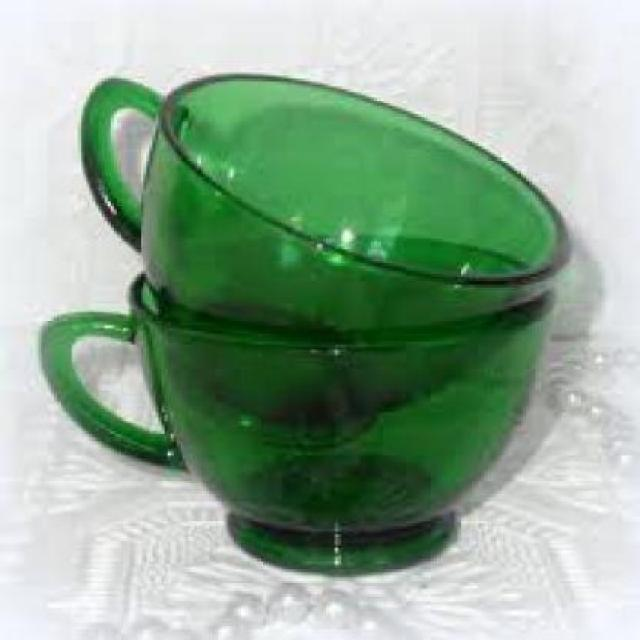kaca: (35, 231, 554, 569), (79, 68, 566, 369)
